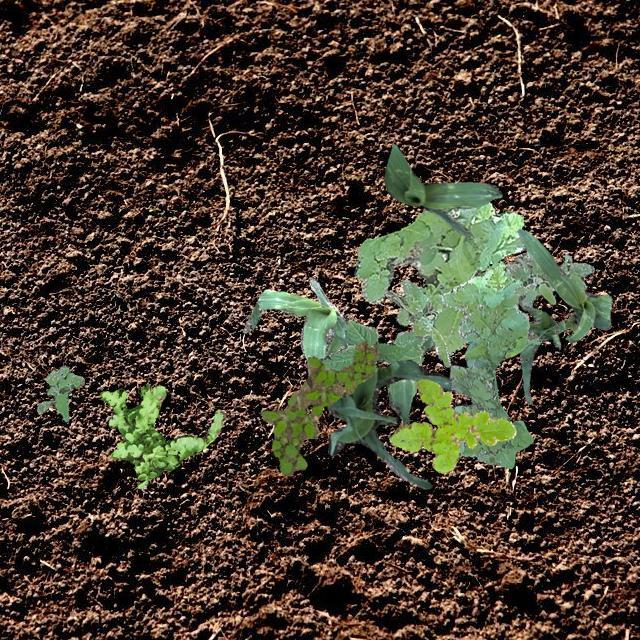crop: (325, 358, 451, 488), (516, 226, 610, 342), (384, 144, 501, 235), (242, 278, 348, 358), (318, 320, 426, 370), (516, 294, 560, 402), (386, 331, 434, 423)
weed: (353, 200, 524, 358), (440, 252, 540, 468), (260, 340, 378, 474), (100, 382, 226, 488), (388, 378, 514, 472), (384, 278, 450, 366), (504, 254, 594, 306), (36, 364, 84, 421)
